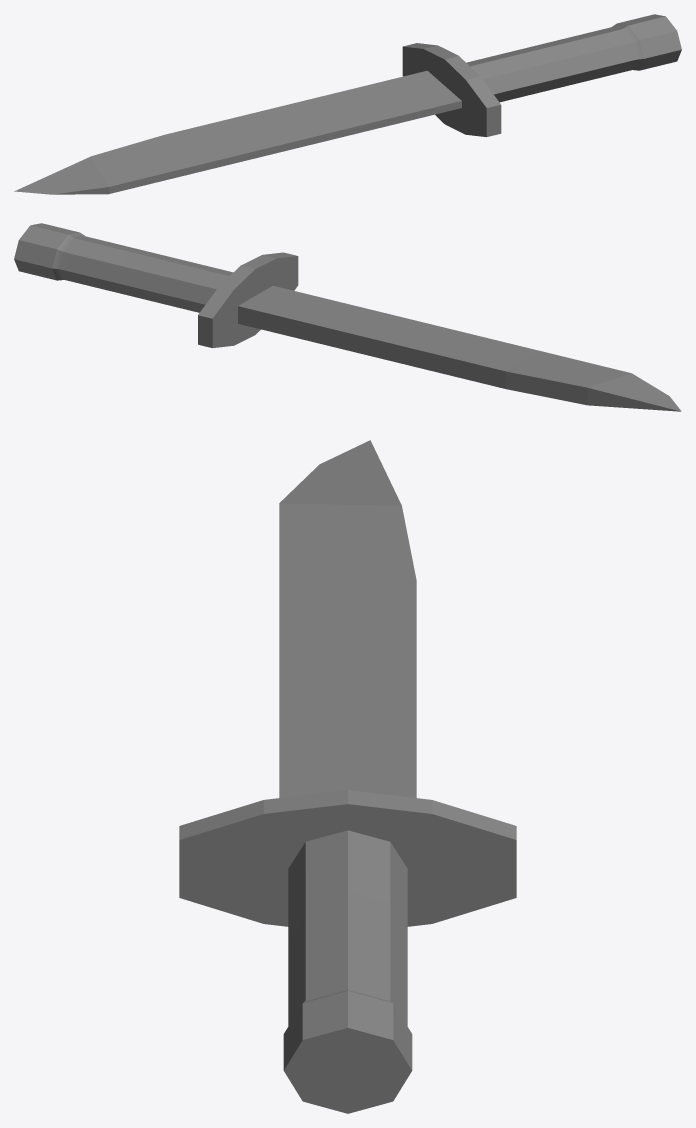
File: Blade.fbx
3 views of the same model, one above another, from view 1: azimuth 30°, elevation 25°; view 2: azimuth 150°, elevation 25°; view 3: azimuth 270°, elevation 25° (orthographic). The views are drawn at different scales.
Visible parts, largest first — view 1: Blade; view 2: Blade; view 3: Blade.
Part boxes in pixels (x1,y1,x2,y2): Blade: (14, 14, 681, 194); Blade: (14, 223, 681, 411); Blade: (179, 440, 516, 1113).
Size of the model in its own units: 35.04 by 3.36 by 7.91.
Materials: 1 (1 with a texture image).
